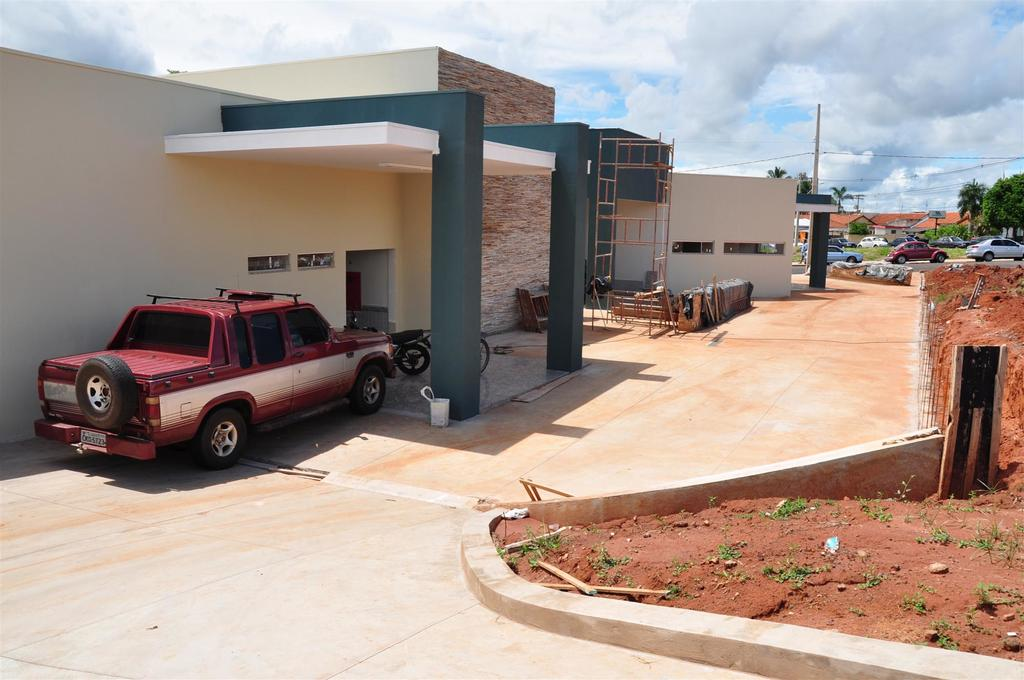Car: (33, 290, 400, 476), (884, 240, 948, 263), (963, 239, 1023, 261), (804, 242, 862, 263), (930, 234, 970, 247), (888, 235, 918, 247), (829, 235, 856, 247), (970, 234, 1006, 243), (858, 235, 887, 246), (915, 233, 930, 242), (1013, 233, 1023, 245), (792, 238, 803, 246), (762, 242, 776, 247), (879, 235, 885, 241)
